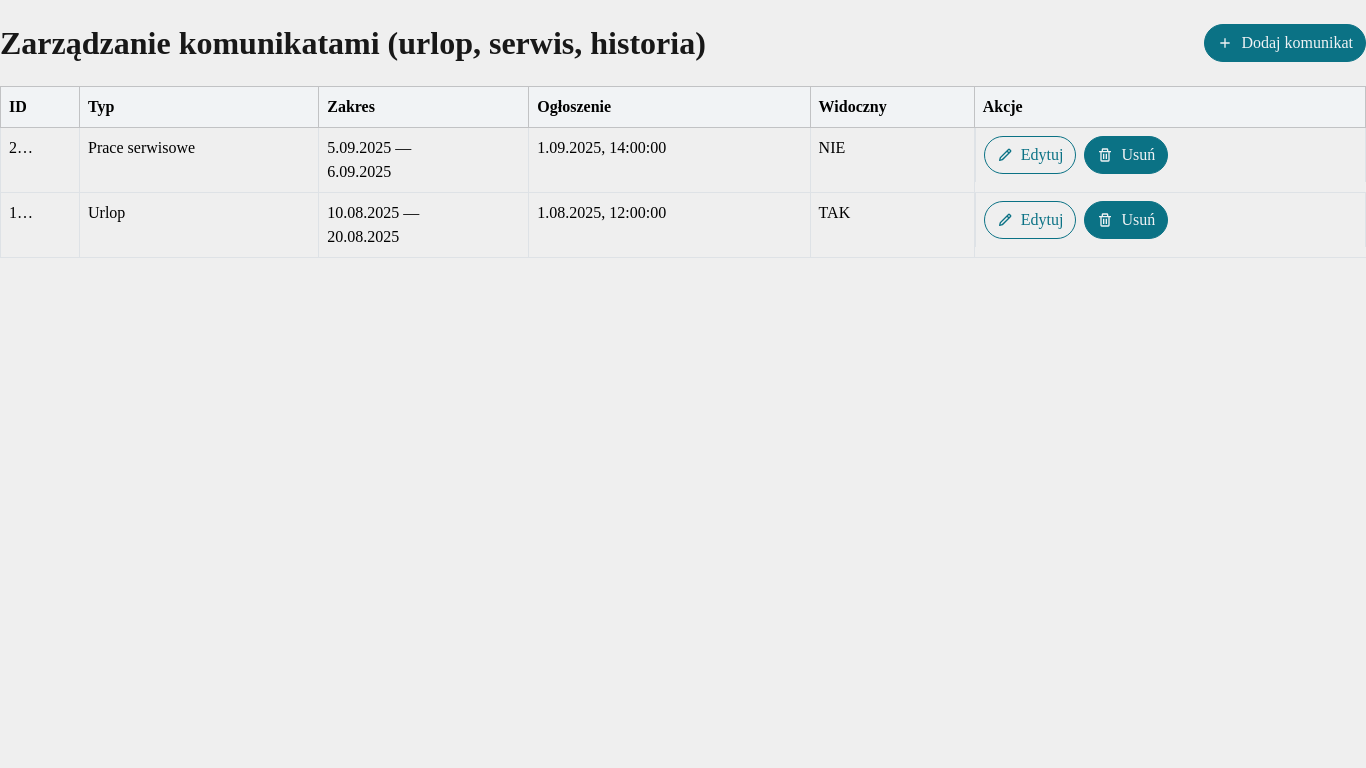
Scenario: VacationAdminPage › shows an error message when editing a banner fails
This screenshot has width=1366, height=768.
Click the button with test id "edit-banner-1" at (1030, 220), box [984,201,1076,239]
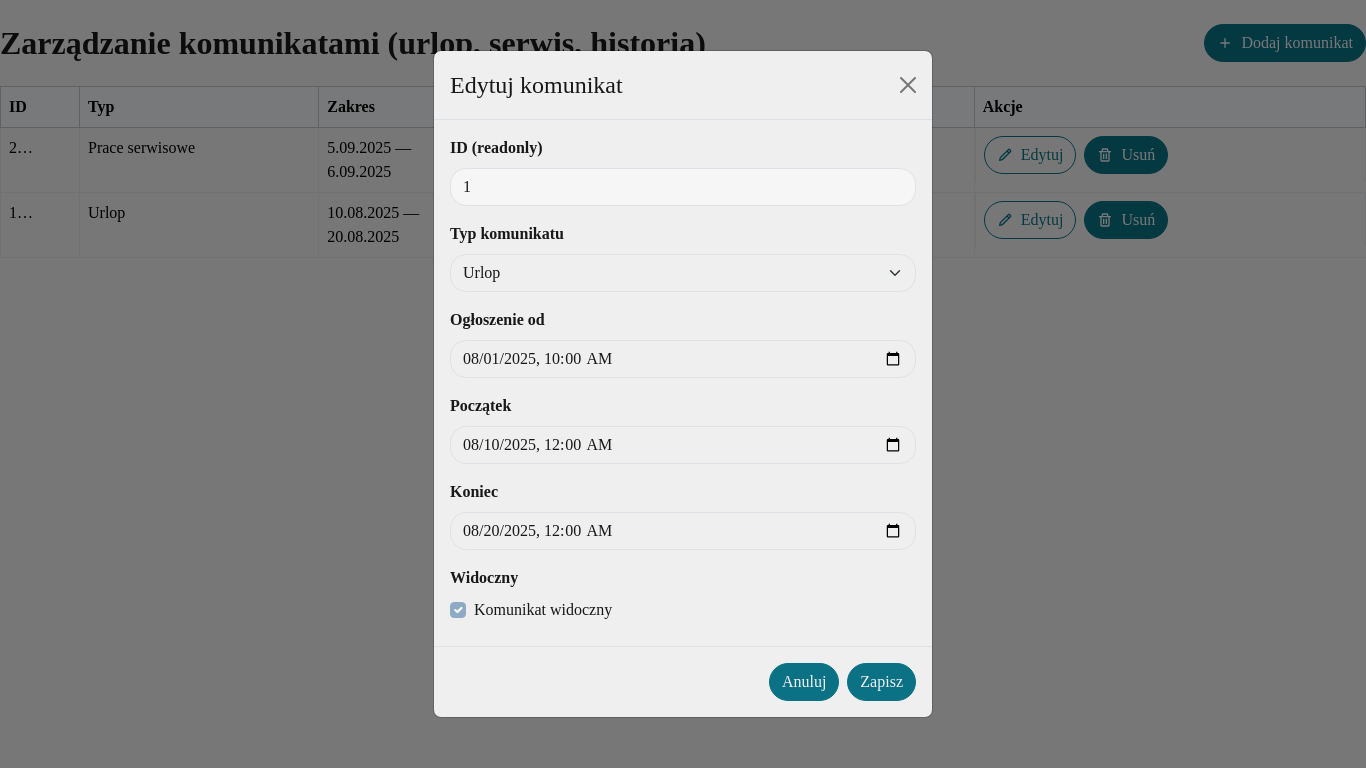
Click the button with test id "modal-submit-button" at (882, 682), box [847,663,916,701]
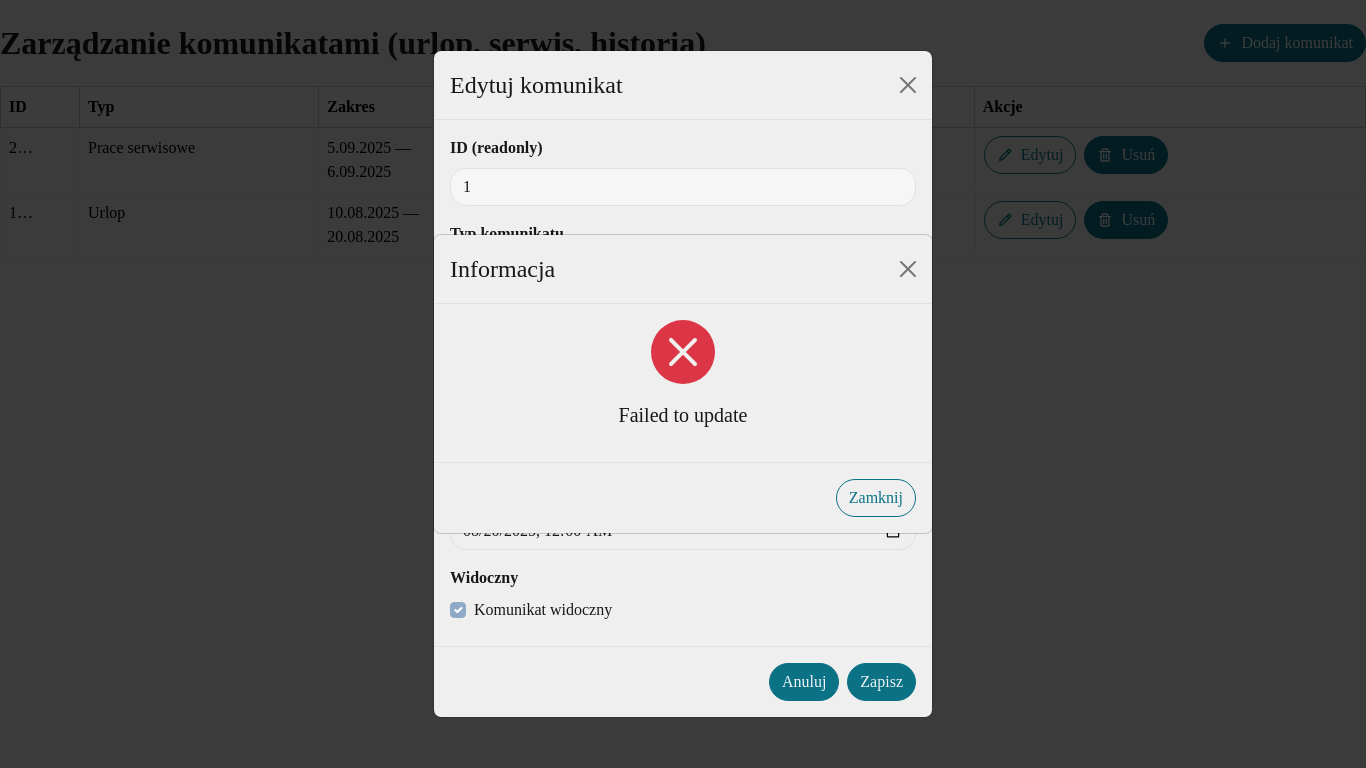
Expected: the text "Failed to update" is shown, [619,404,748,426]
